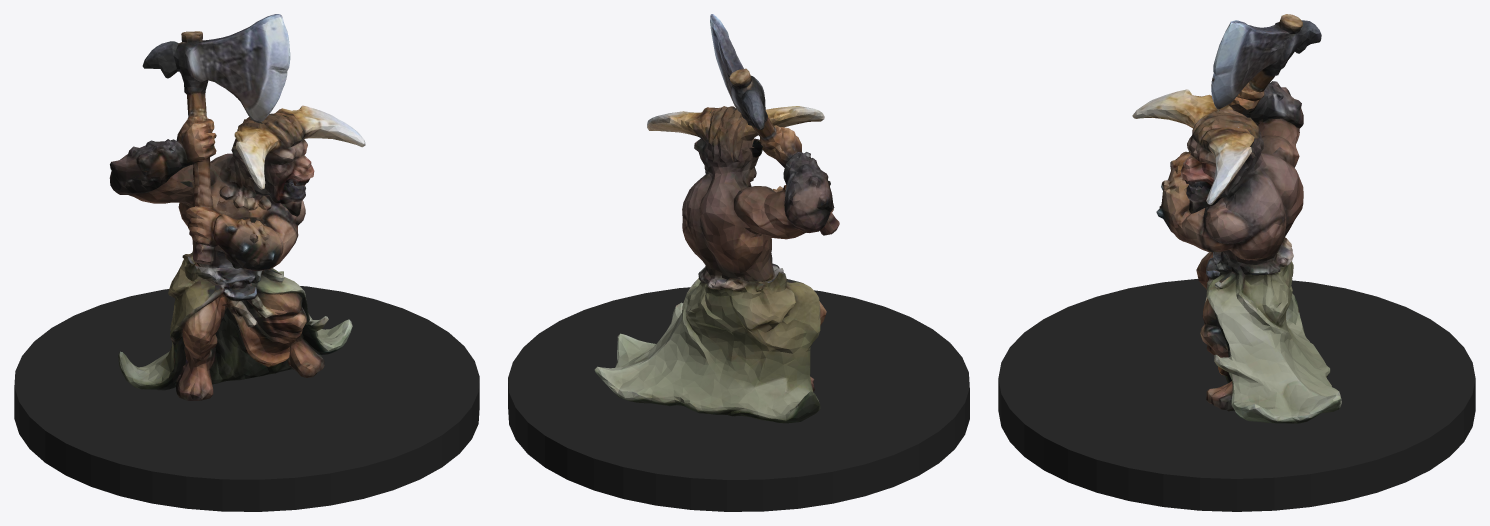
Rendered from wm-ravager-1.glb.
The picture shows the model from 3 angles, left to right: view 1: azimuth 30°, elevation 25°; view 2: azimuth 150°, elevation 25°; view 3: azimuth 270°, elevation 25°; orthographic projection. The views are drawn at different scales.
Visible parts, largest first — view 1: base, figure; view 2: base, figure; view 3: base, figure.
Part boxes in pixels (bbox=[...]): base: bbox=[14, 286, 479, 511]; figure: bbox=[109, 14, 365, 400]; base: bbox=[508, 287, 969, 511]; figure: bbox=[594, 14, 839, 423]; base: bbox=[998, 279, 1475, 511]; figure: bbox=[1132, 14, 1341, 423].
Bounding box in the file's own units: 1.57 × 1.47 × 1.57.
2 materials, 1 textured.
